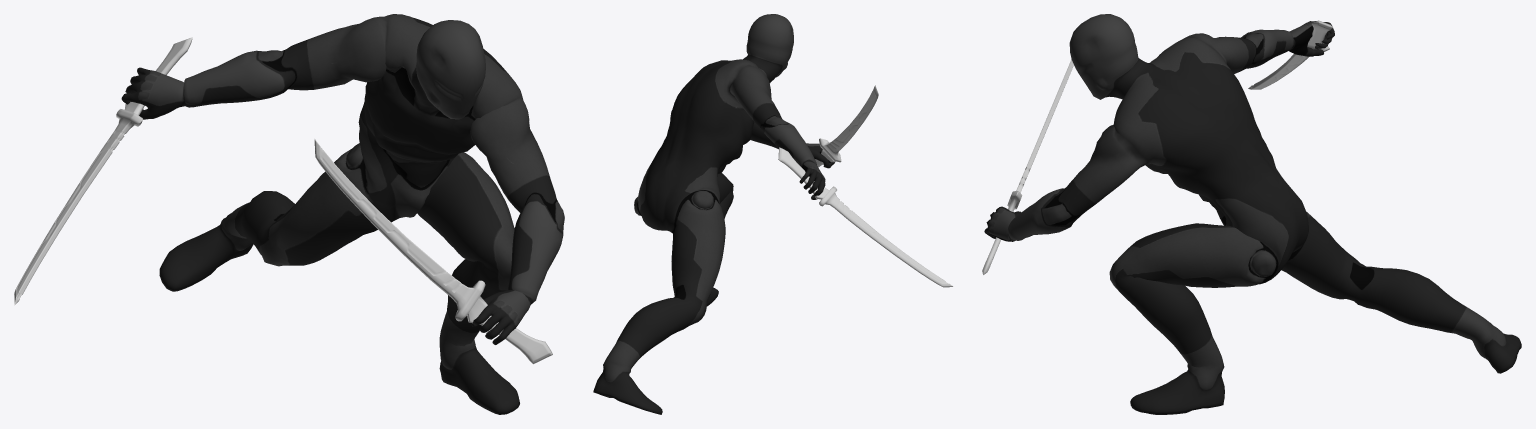
The picture shows the model from 3 angles, left to right: view 1: azimuth 30°, elevation 25°; view 2: azimuth 150°, elevation 25°; view 3: azimuth 270°, elevation 25°; orthographic projection. The views are drawn at different scales.
Visible parts, largest first — view 1: Cyborg_Ninja_Killer, Sword_l, Sword_l001; view 2: Cyborg_Ninja_Killer, Sword_l001, Sword_l; view 3: Cyborg_Ninja_Killer, Sword_l, Sword_l001.
Part boxes in pixels (x1,y1,x2,y2): Cyborg_Ninja_Killer: (121, 14, 564, 414); Sword_l: (314, 139, 552, 364); Sword_l001: (14, 37, 192, 305); Cyborg_Ninja_Killer: (593, 14, 834, 414); Sword_l001: (778, 147, 952, 287); Sword_l: (815, 85, 878, 167); Cyborg_Ninja_Killer: (984, 14, 1521, 414); Sword_l: (982, 59, 1073, 274); Sword_l001: (1248, 20, 1332, 89).
Size of the model in its own units: 143 by 123 by 167.
